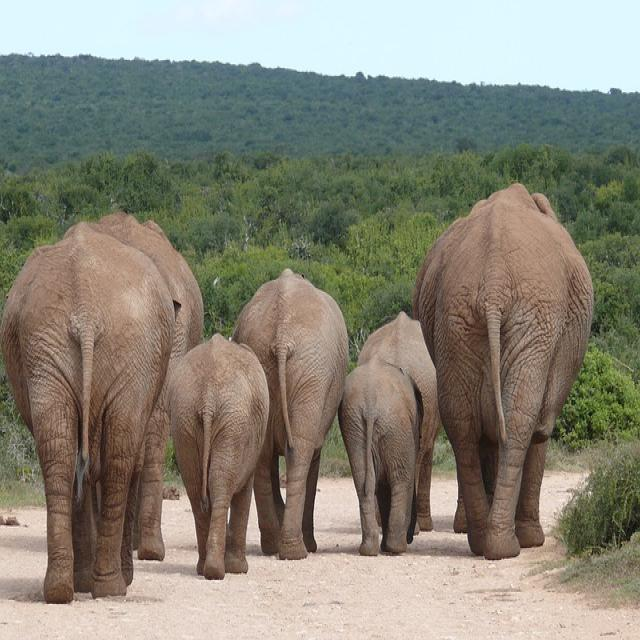FIL: (415, 181, 595, 558), (1, 220, 165, 610), (168, 336, 271, 584), (344, 363, 419, 556)
